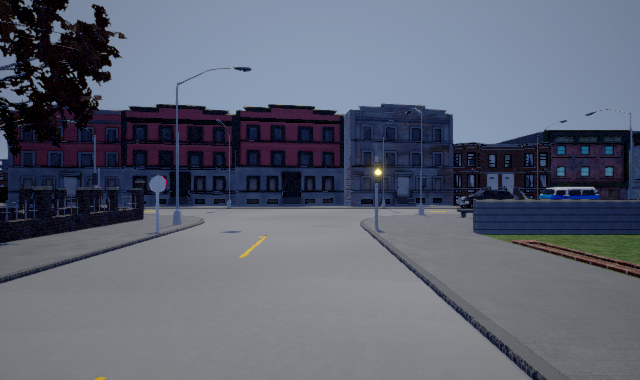traffic_light: (374, 158, 381, 187)
vehicle: (456, 189, 514, 209), (539, 187, 600, 199)
